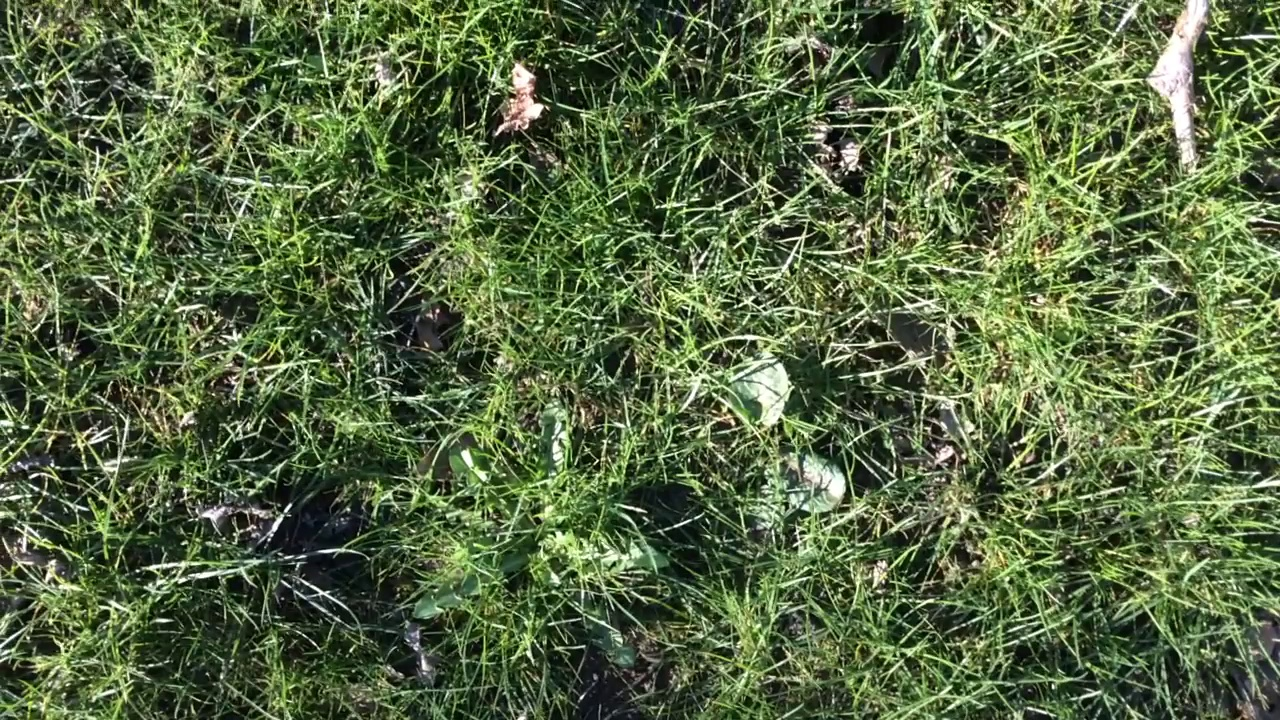rumex: (765, 454, 848, 512), (738, 358, 791, 426)
